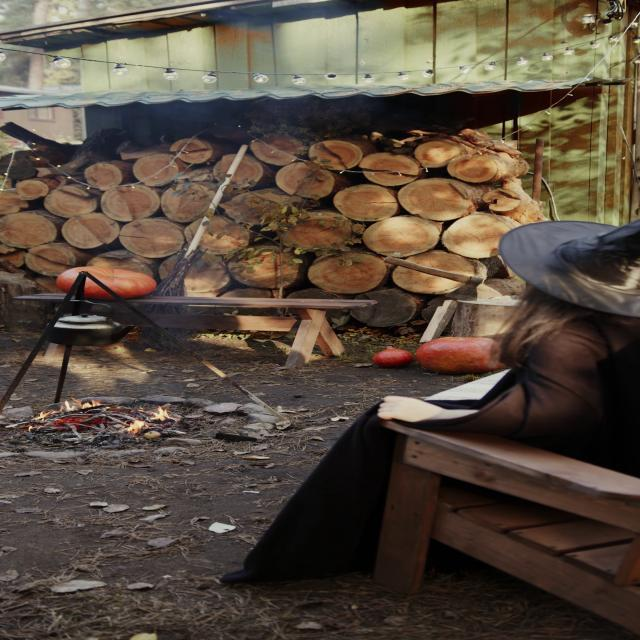Fire: (52, 394, 175, 434)
